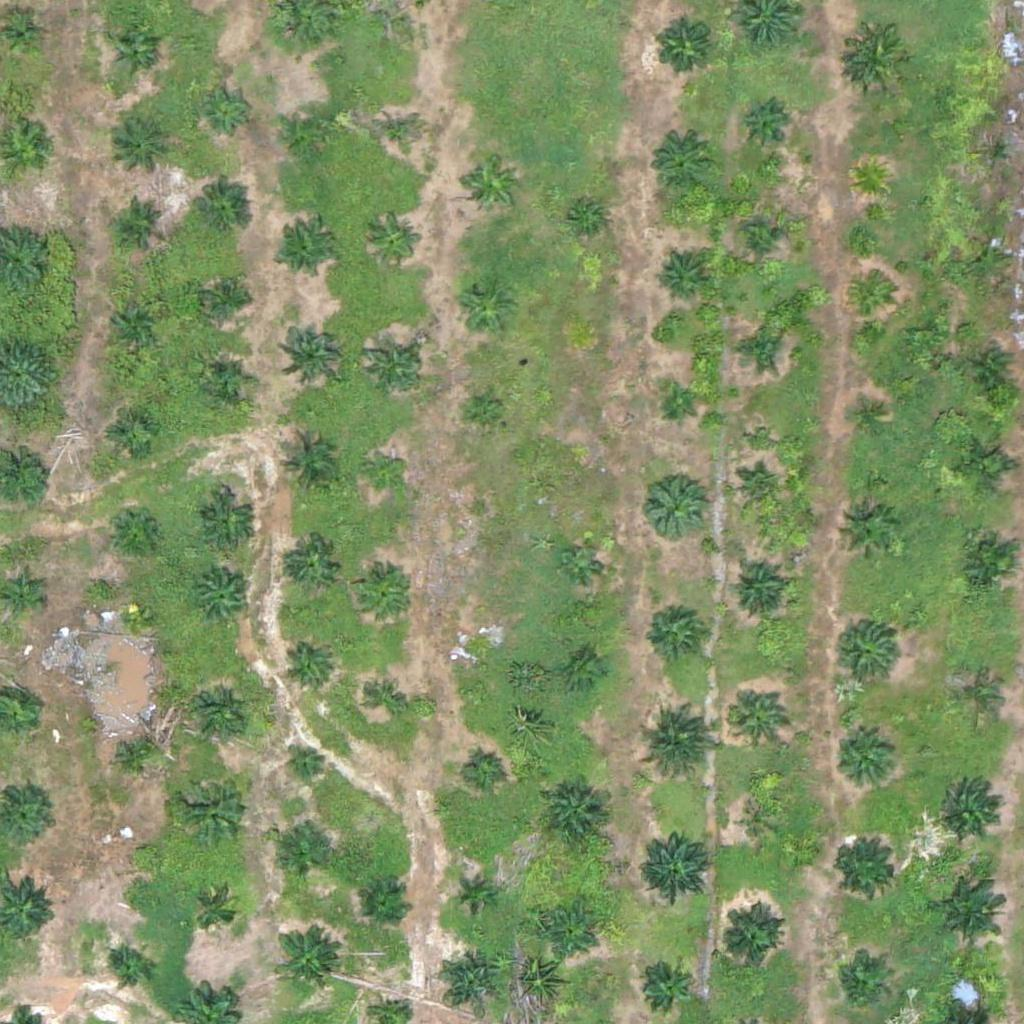Kelapa_Sawit: (177, 766, 252, 842), (931, 875, 1006, 951), (636, 709, 711, 784), (638, 823, 713, 898), (437, 945, 500, 1008), (642, 473, 705, 536), (453, 277, 516, 340), (196, 491, 259, 554), (845, 29, 908, 92), (718, 907, 781, 970), (112, 115, 175, 178), (460, 154, 523, 217), (191, 184, 254, 247), (275, 222, 337, 285), (273, 927, 335, 990), (541, 783, 603, 846), (643, 600, 705, 663), (188, 683, 250, 746), (276, 435, 338, 498), (363, 336, 425, 399), (279, 319, 341, 382), (648, 132, 710, 195), (652, 15, 714, 78), (726, 557, 788, 620), (836, 837, 898, 900), (939, 779, 1001, 842), (836, 501, 898, 564), (956, 534, 1018, 597), (834, 621, 896, 684), (838, 732, 900, 795), (728, 686, 790, 749), (955, 435, 1017, 498), (193, 570, 255, 632), (369, 215, 419, 266), (543, 910, 593, 961), (638, 961, 688, 1012), (654, 253, 704, 304), (731, 323, 781, 374), (373, 109, 423, 160), (285, 107, 335, 158), (203, 84, 253, 135), (111, 26, 161, 77), (108, 503, 158, 553), (107, 407, 157, 457), (289, 538, 339, 588), (359, 570, 409, 620), (272, 833, 322, 883), (735, 103, 785, 153), (837, 955, 887, 1005), (952, 672, 1002, 722), (358, 880, 408, 930), (189, 889, 239, 939), (104, 946, 154, 996), (112, 729, 162, 779), (732, 466, 782, 516), (736, 217, 786, 267), (201, 273, 251, 323), (203, 357, 253, 407), (109, 293, 159, 343), (114, 198, 164, 248), (284, 642, 334, 692), (287, 744, 325, 782), (851, 160, 889, 198), (973, 349, 1011, 387), (853, 282, 891, 320), (852, 402, 890, 440), (969, 240, 1007, 278), (568, 203, 606, 241), (364, 455, 402, 493), (462, 638, 500, 676), (368, 680, 406, 718), (567, 654, 604, 692), (742, 803, 779, 841), (453, 876, 490, 914), (467, 752, 505, 789), (978, 134, 1015, 172), (659, 386, 696, 424), (467, 392, 504, 429), (562, 542, 599, 579), (121, 604, 146, 629), (128, 839, 153, 864)
